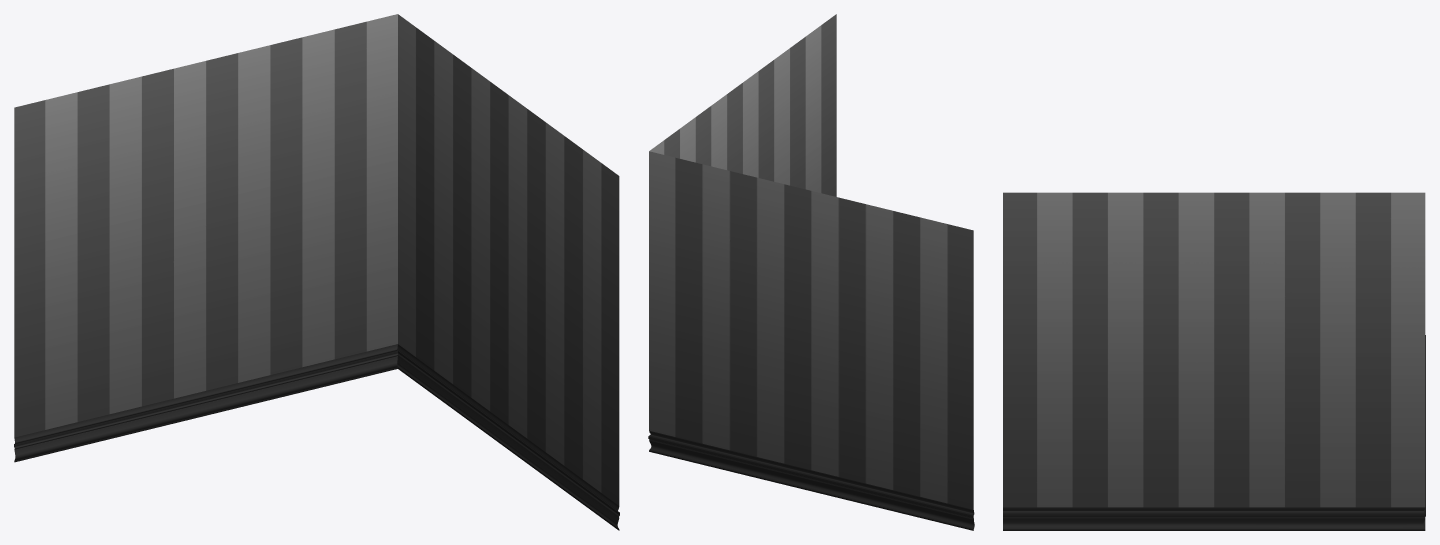
The model's file is Wall_03_Int_Long.fbx.
3 renders of one model, left to right at view 1: azimuth 30°, elevation 25°; view 2: azimuth 150°, elevation 25°; view 3: azimuth 270°, elevation 25°, orthographic. The views are drawn at different scales.
Parts seen in each view (by area): view 1: Wall_03_Int_Long; view 2: Wall_03_Int_Long; view 3: Wall_03_Int_Long.
Part boxes in pixels (bbox=[...]): Wall_03_Int_Long: bbox=[14, 14, 619, 530]; Wall_03_Int_Long: bbox=[648, 14, 974, 530]; Wall_03_Int_Long: bbox=[1003, 192, 1425, 530].
Size of the model in its own units: 3 by 2.65 by 3.
